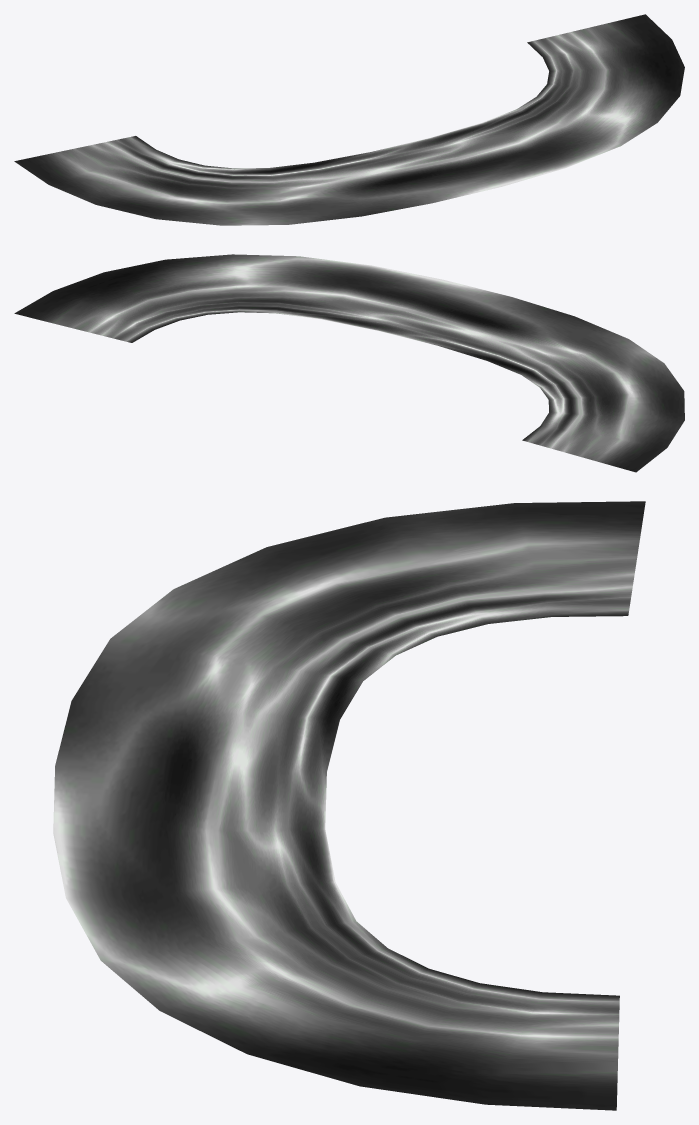
File: Mld_fx_010.FBX
3 renders of one model, top to bottom at view 1: azimuth 30°, elevation 25°; view 2: azimuth 150°, elevation 25°; view 3: azimuth 270°, elevation 25°, orthographic. The views are drawn at different scales.
Parts seen in each view (by area): view 1: Mld_fx_010; view 2: Mld_fx_010; view 3: Mld_fx_010.
Boxes of the visible parts, box(x1,y1,x2,y2) form: Mld_fx_010: box(14, 14, 684, 225); Mld_fx_010: box(14, 254, 684, 472); Mld_fx_010: box(53, 501, 645, 1110).
Bounding box in the file's own units: 291 × 1.67e-05 × 120.
1 material, 1 textured.
